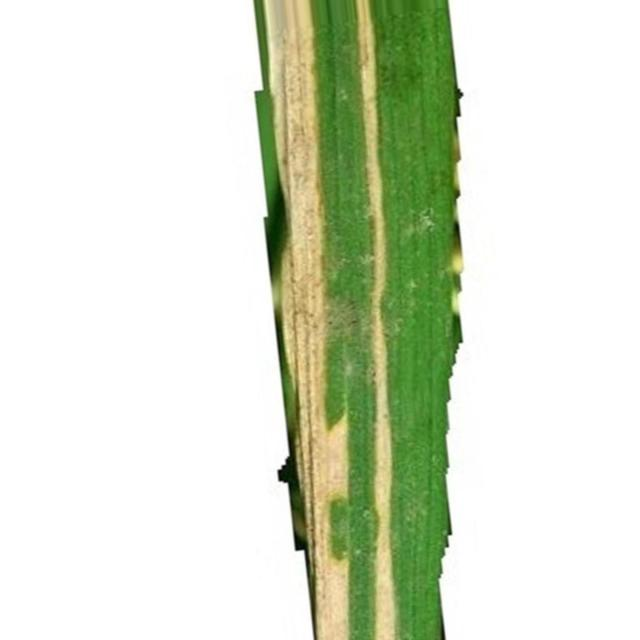Bacterial_Leaf_Blight: (262, 0, 350, 639), (357, 0, 398, 639), (371, 302, 396, 640)
